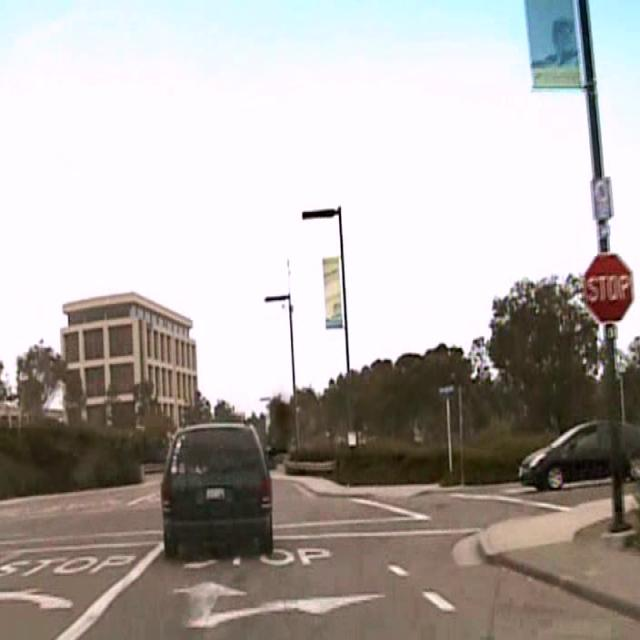stop: (584, 252, 634, 323)
